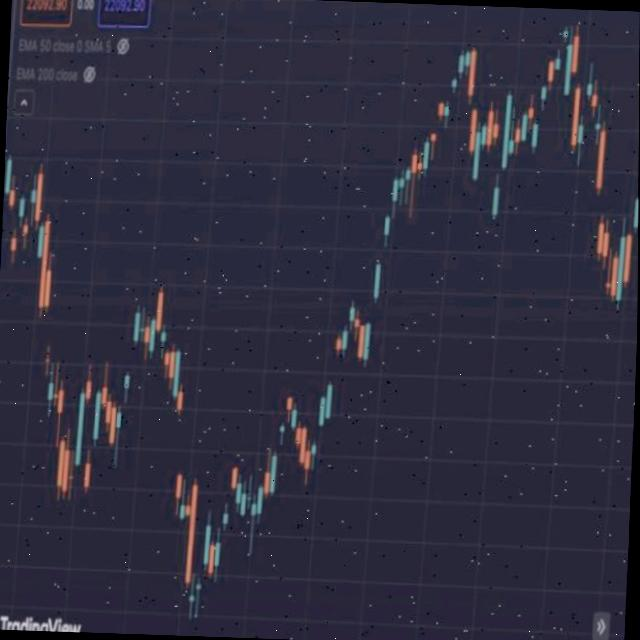Gap Down: (594, 133, 608, 253), (82, 380, 95, 492), (41, 269, 55, 372), (569, 35, 582, 145), (174, 390, 186, 499), (467, 50, 477, 152), (491, 124, 501, 214), (7, 190, 20, 250)
Gap Up: (364, 262, 380, 360), (374, 217, 391, 296), (326, 338, 341, 420), (125, 310, 140, 390), (271, 422, 285, 494), (222, 464, 238, 526), (578, 84, 592, 143), (312, 396, 325, 458), (533, 88, 545, 146), (117, 375, 130, 428), (444, 80, 457, 116), (431, 105, 443, 142)
